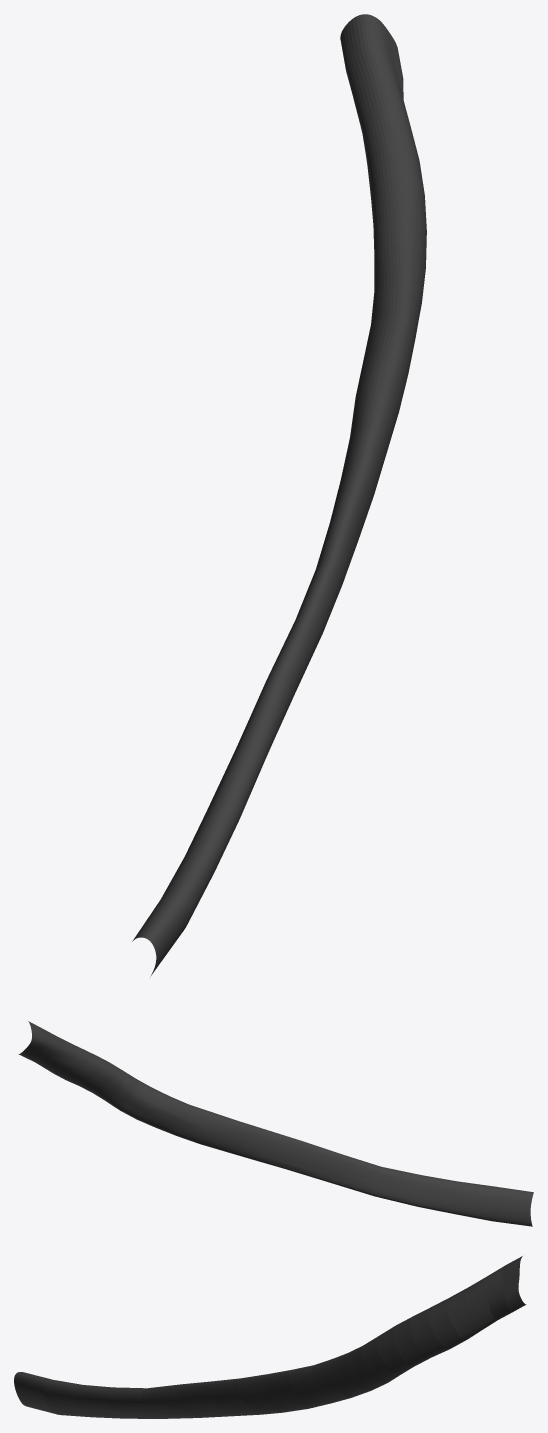
The model's file is N_5_trigeminus_maxillary.glb.
The picture shows the model from 3 angles, top to bottom: view 1: azimuth 30°, elevation 25°; view 2: azimuth 150°, elevation 25°; view 3: azimuth 270°, elevation 25°; orthographic projection. The views are drawn at different scales.
Visible parts, largest first — view 1: N_5_trigeminus_maxillary; view 2: N_5_trigeminus_maxillary; view 3: N_5_trigeminus_maxillary.
Boxes of the visible parts, left/top/right/bottom form: N_5_trigeminus_maxillary: left=132, top=14, right=426, bottom=976; N_5_trigeminus_maxillary: left=18, top=1021, right=533, bottom=1226; N_5_trigeminus_maxillary: left=14, top=1256, right=526, bottom=1418.
Bounding box in the file's own units: 0.0139 × 0.011 × 0.015.
1 material, 1 textured.
